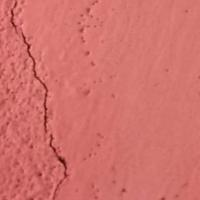crack: (4, 0, 84, 199)
